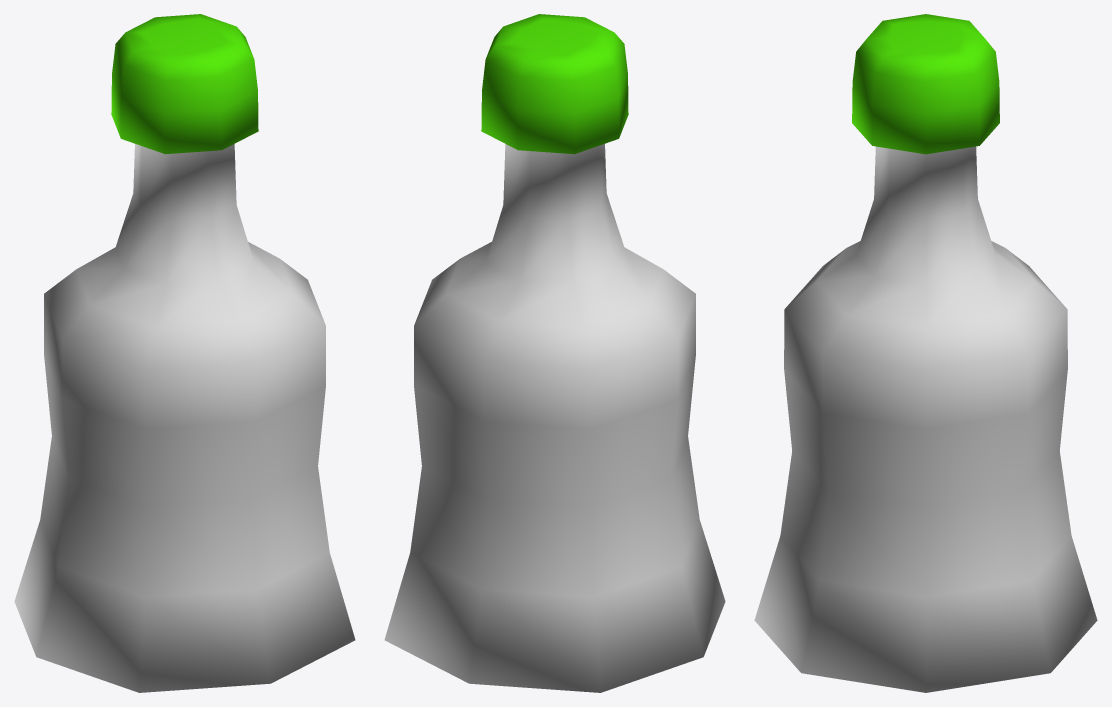
Rendered from GarrafaOW_1.fbx.
3 views of the same model, side by side, from view 1: azimuth 30°, elevation 25°; view 2: azimuth 150°, elevation 25°; view 3: azimuth 270°, elevation 25° (orthographic).
Parts seen in each view (by area): view 1: GarrafaOW_1; view 2: GarrafaOW_1; view 3: GarrafaOW_1.
Part boxes in pixels (x1,y1,x2,y2): GarrafaOW_1: [14, 14, 355, 692]; GarrafaOW_1: [384, 14, 725, 692]; GarrafaOW_1: [754, 14, 1097, 692].
Bounding box in the file's own units: 16.78 × 31.47 × 16.78.
